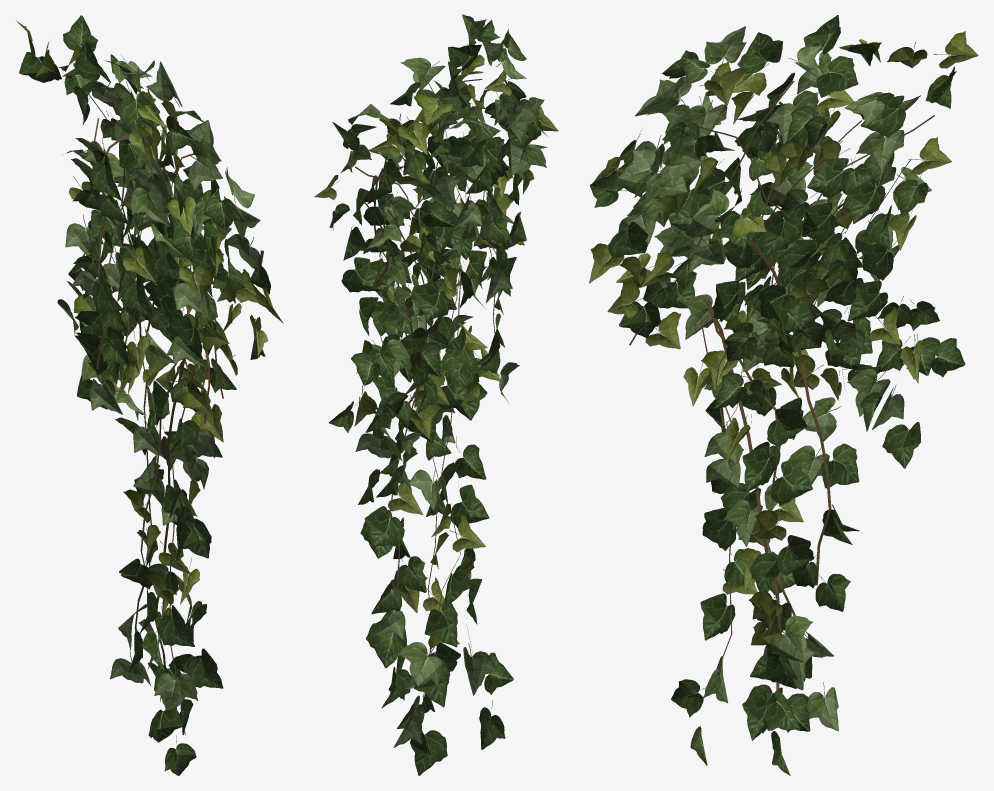
The model's file is SM_Ivy_01c.fbx.
The picture shows the model from 3 angles, left to right: view 1: azimuth 30°, elevation 25°; view 2: azimuth 150°, elevation 25°; view 3: azimuth 270°, elevation 25°; orthographic projection. The views are drawn at different scales.
Visible parts, largest first — view 1: SM_Ivy_01c; view 2: SM_Ivy_01c; view 3: SM_Ivy_01c.
Boxes of the visible parts, bbox=[...] form: SM_Ivy_01c: bbox=[16, 15, 283, 775]; SM_Ivy_01c: bbox=[314, 14, 558, 775]; SM_Ivy_01c: bbox=[589, 15, 978, 775].
Bounding box in the file's own units: 74.52 × 173 × 361.
Materials: 2 (2 with a texture image).
